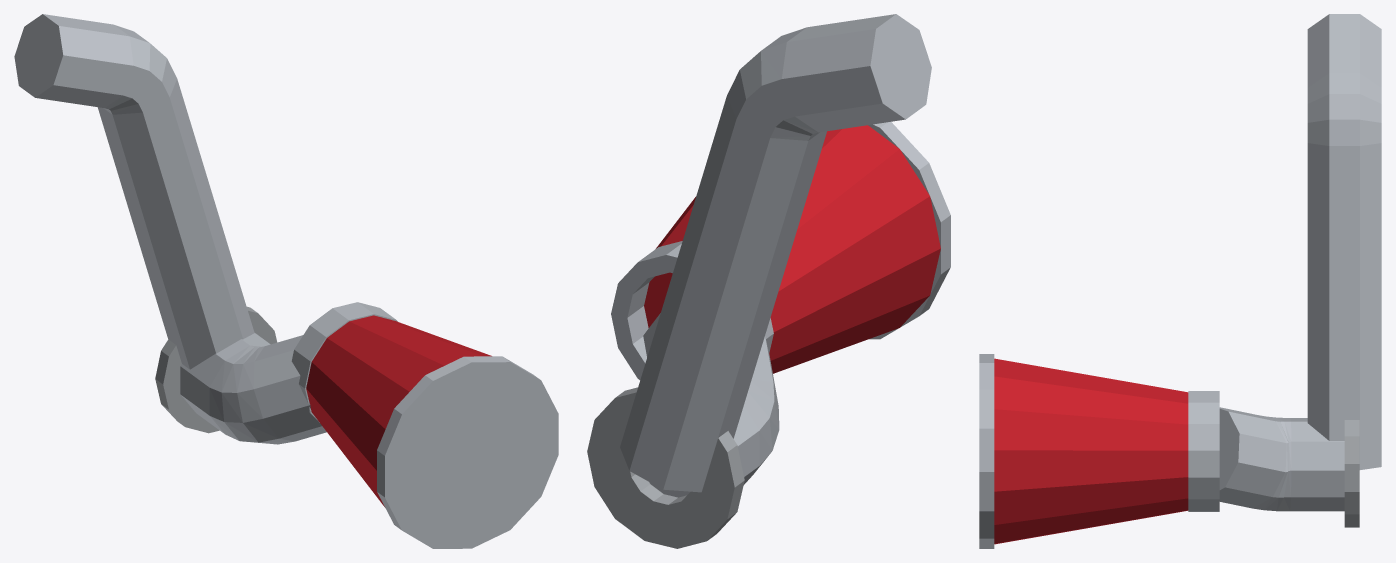
The model's file is strada_evo.glb.
3 views of the same model, side by side, from view 1: azimuth 30°, elevation 25°; view 2: azimuth 150°, elevation 25°; view 3: azimuth 270°, elevation 25° (orthographic). The views are drawn at different scales.
Visible parts, largest first — view 1: model; view 2: model; view 3: model.
Boxes of the visible parts, bbox=[...] form: model: bbox=[14, 14, 558, 548]; model: bbox=[587, 14, 950, 548]; model: bbox=[979, 14, 1381, 548].
Bounding box in the file's own units: 0.2964 × 0.3777 × 0.3216.
Materials: 2 (1 with a texture image).
